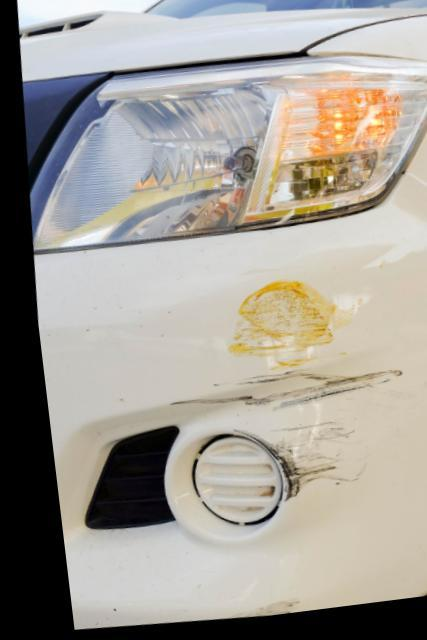scratch: (155, 278, 397, 512)
